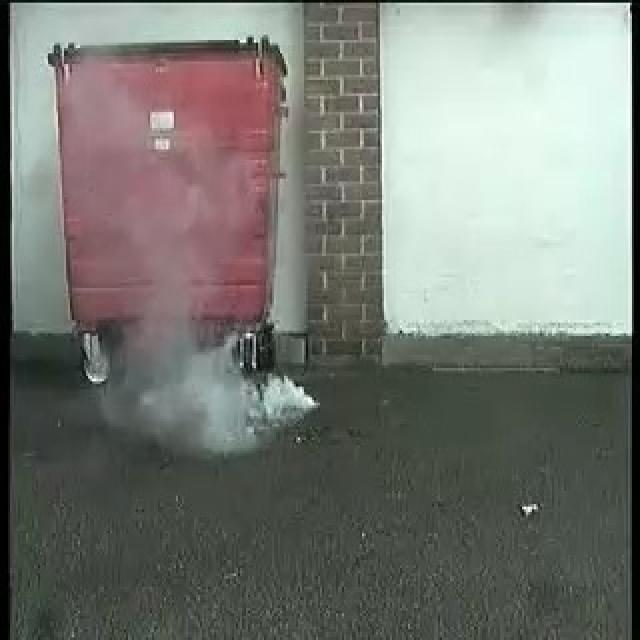smoke: (120, 343, 319, 460)
